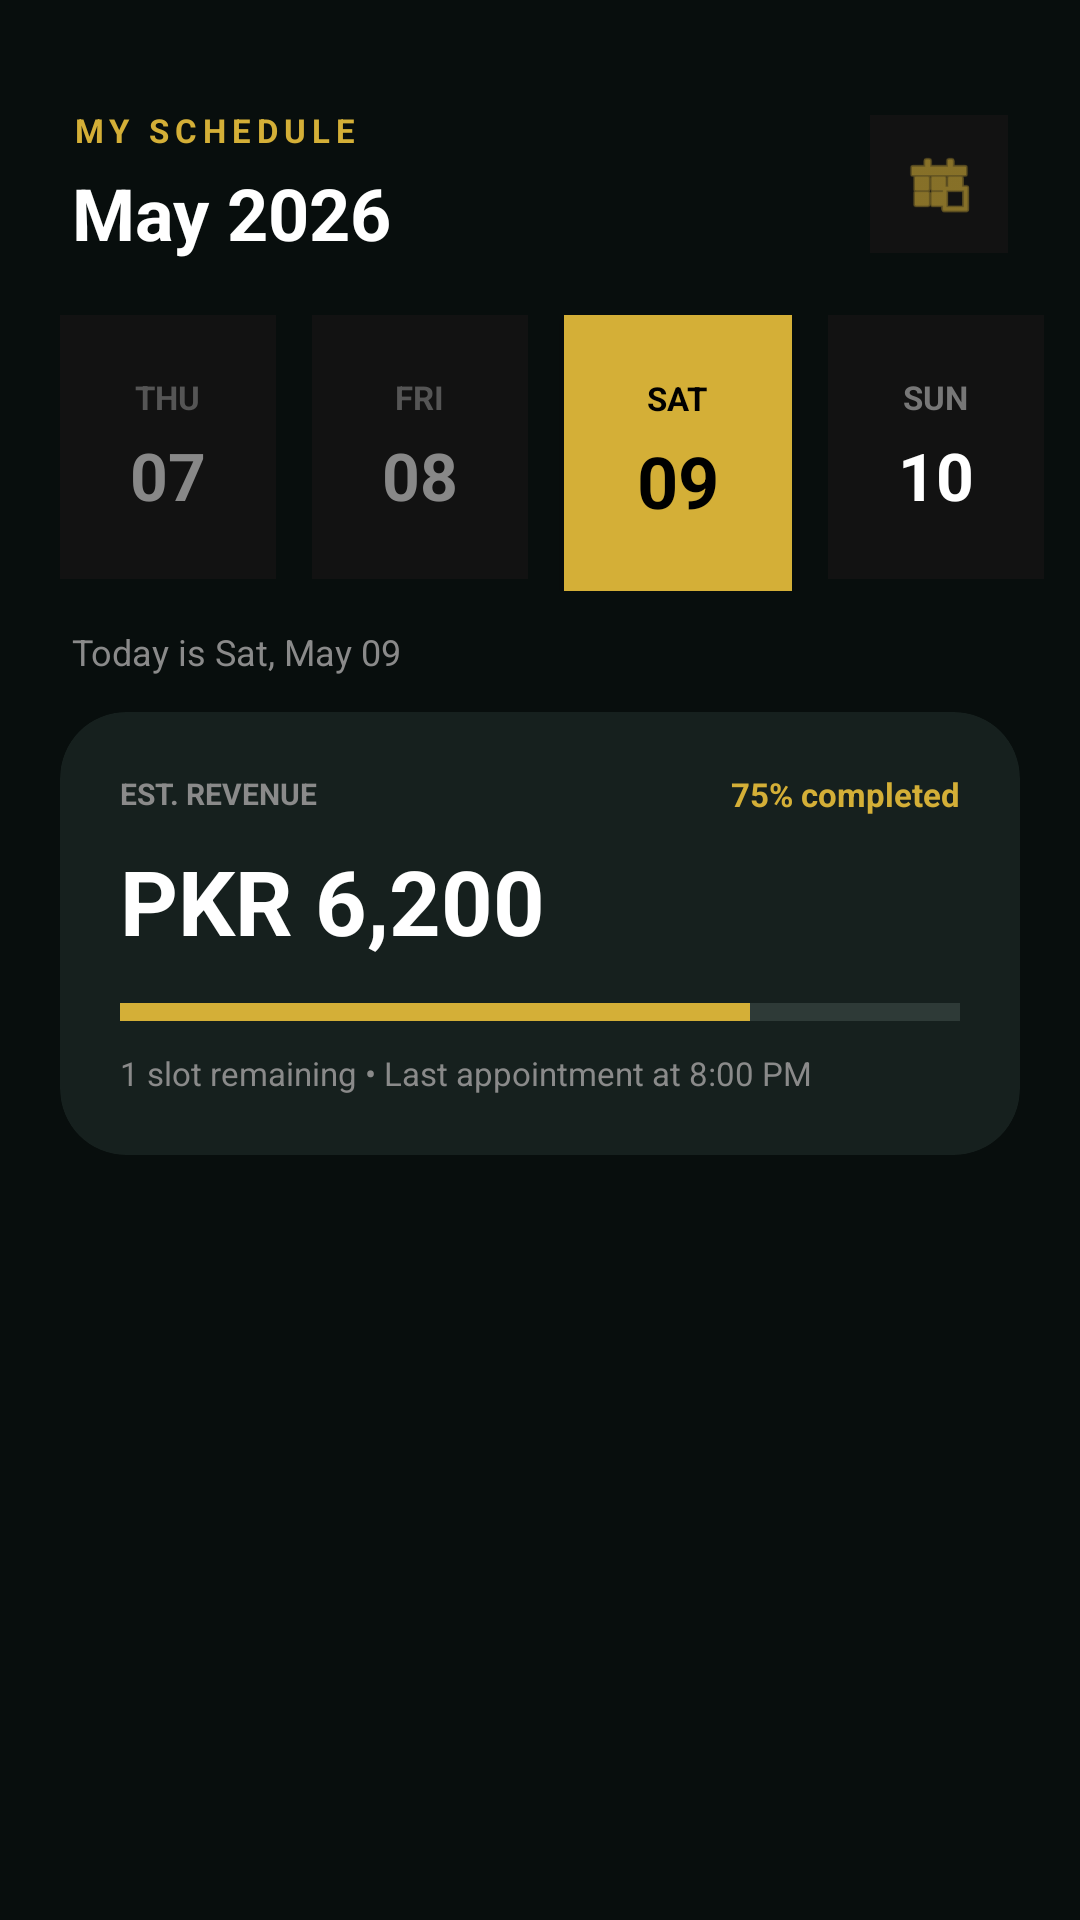

Where to tap for icons on this 1080 x 1920 app screen, as point (x, y):
today: point (939, 185)
